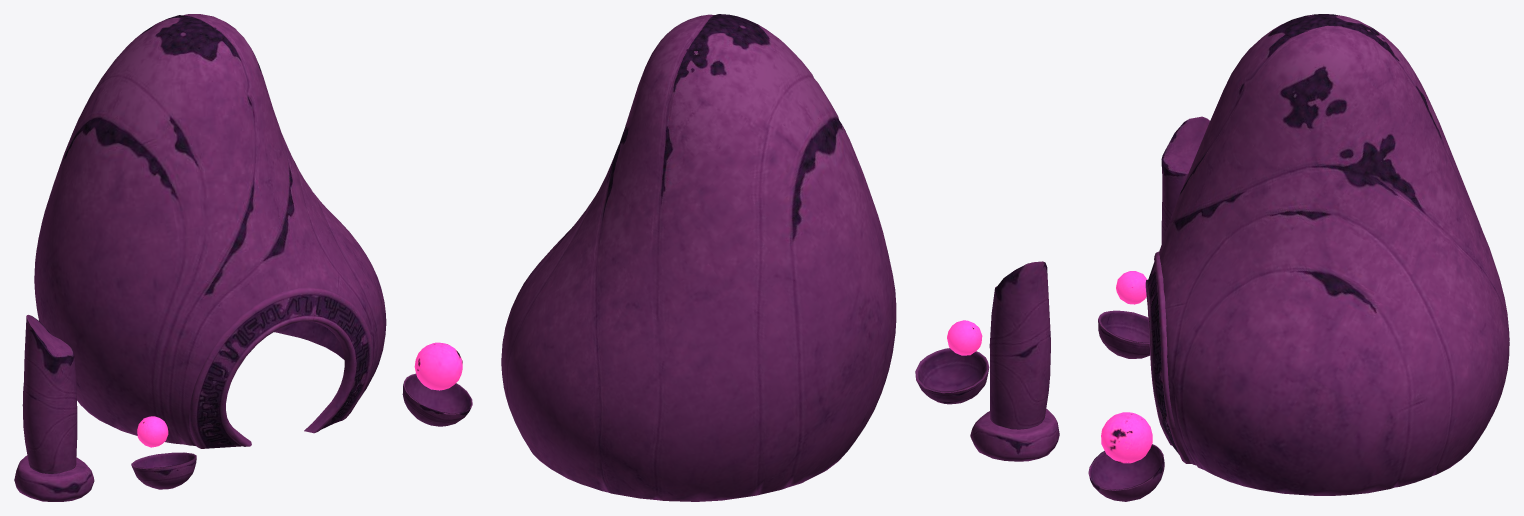
The model's file is sky_hut_a_chaos.glb.
3 renders of one model, left to right at view 1: azimuth 30°, elevation 25°; view 2: azimuth 150°, elevation 25°; view 3: azimuth 270°, elevation 25°, orthographic. The views are drawn at different scales.
Parts seen in each view (by area): view 1: hut_a; view 2: hut_a; view 3: hut_a.
Part boxes in pixels (<box>): hut_a: <box>14,14,472,501</box>; hut_a: <box>501,14,1059,501</box>; hut_a: <box>1088,14,1509,501</box>.
Bounding box in the file's own units: 8.7 × 7.36 × 7.06.
1 material, 1 textured.
